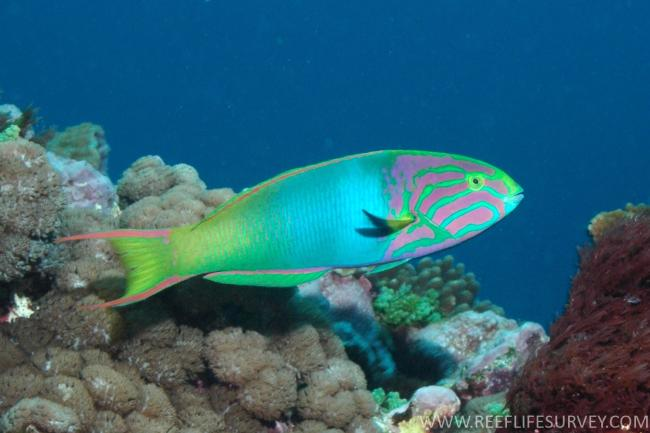fish: (56, 149, 526, 312)
